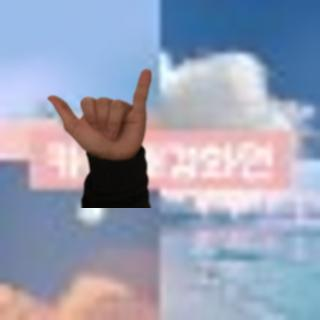HAVE: (43, 64, 158, 162)
